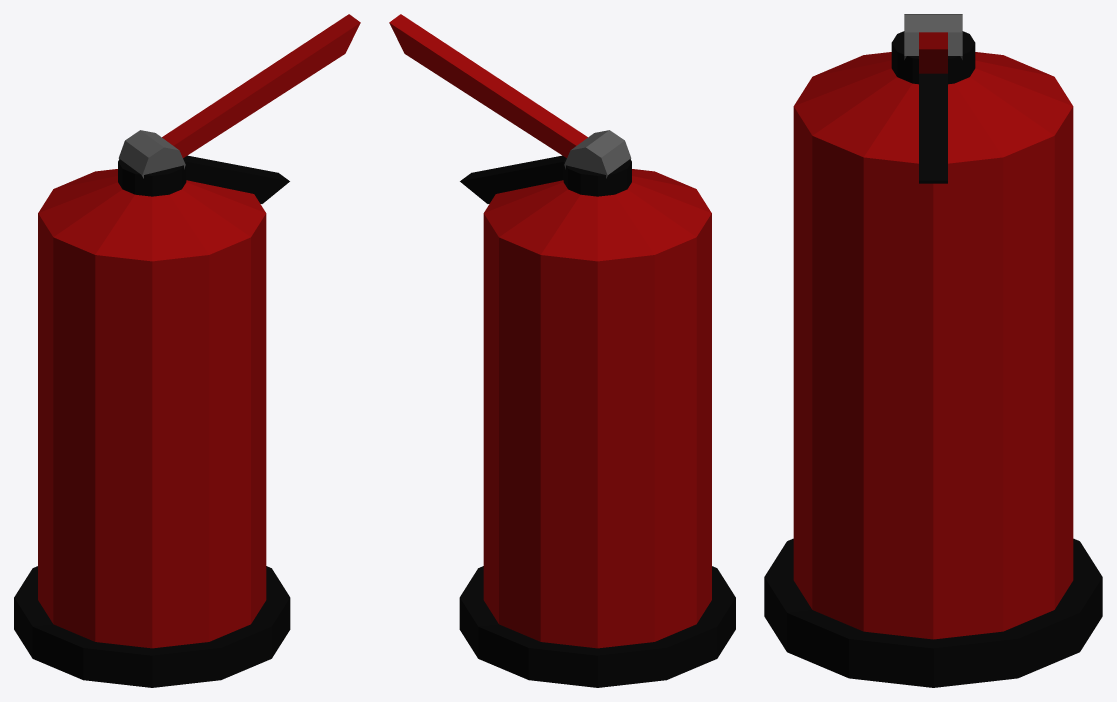
The model's file is firehydrant (1).glb.
3 renders of one model, left to right at view 1: azimuth 30°, elevation 25°; view 2: azimuth 150°, elevation 25°; view 3: azimuth 270°, elevation 25°, orthographic. The views are drawn at different scales.
Visible parts, largest first — view 1: Cylinder, Cylinder.001; view 2: Cylinder, Cylinder.001; view 3: Cylinder, Cylinder.001.
Part boxes in pixels (bbox=[...]): Cylinder: bbox=[14, 158, 290, 687]; Cylinder.001: bbox=[118, 14, 360, 203]; Cylinder: bbox=[459, 158, 735, 687]; Cylinder.001: bbox=[389, 14, 631, 203]; Cylinder: bbox=[764, 31, 1102, 687]; Cylinder.001: bbox=[904, 14, 962, 183].
Size of the model in its own units: 3.26 by 5.43 by 2.42.
